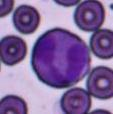E: (31, 28, 90, 88)
